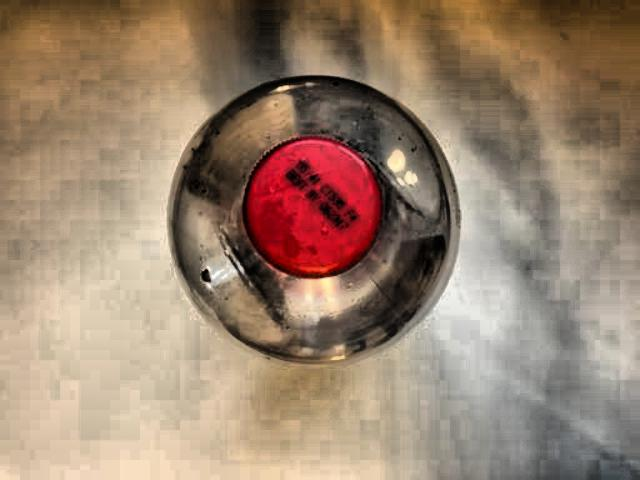Bottles: (129, 46, 479, 385)
